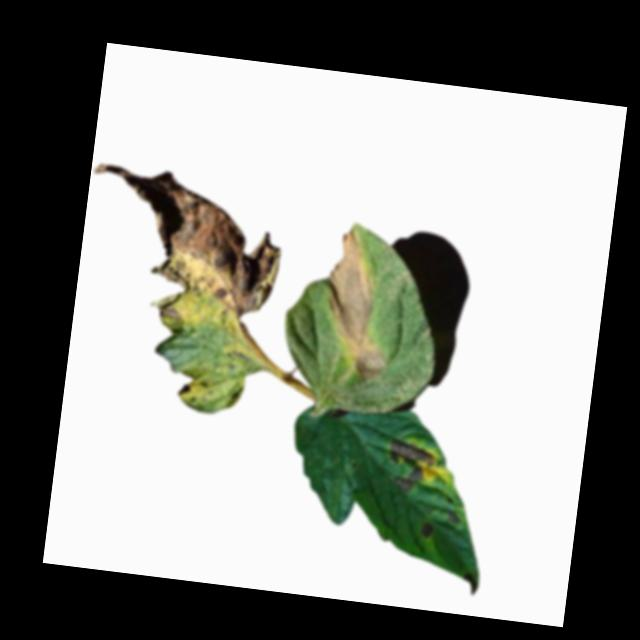Early_blight: (76, 158, 289, 330), (314, 224, 401, 382), (383, 436, 438, 496), (461, 568, 480, 595), (420, 520, 438, 539), (446, 508, 465, 524), (175, 379, 191, 396)
